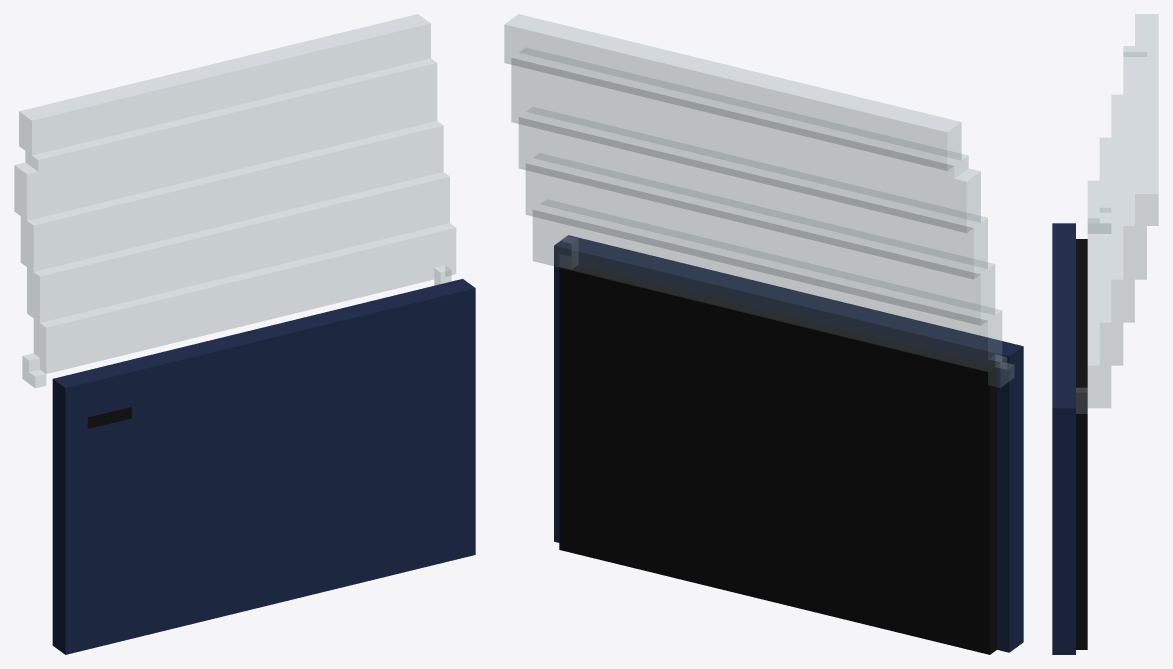
The model's file is minivan_rear_door.glb.
3 renders of one model, left to right at view 1: azimuth 30°, elevation 25°; view 2: azimuth 150°, elevation 25°; view 3: azimuth 270°, elevation 25°, orthographic. The views are drawn at different scales.
Visible parts, largest first — view 1: body:compound; view 2: body:compound; view 3: body:compound.
Part boxes in pixels (x1,y1,x2,y2): body:compound: (14, 14, 475, 654); body:compound: (504, 14, 1023, 654); body:compound: (1052, 14, 1158, 654).
Size of the model in its own units: 1.19 by 1.34 by 0.2812.
